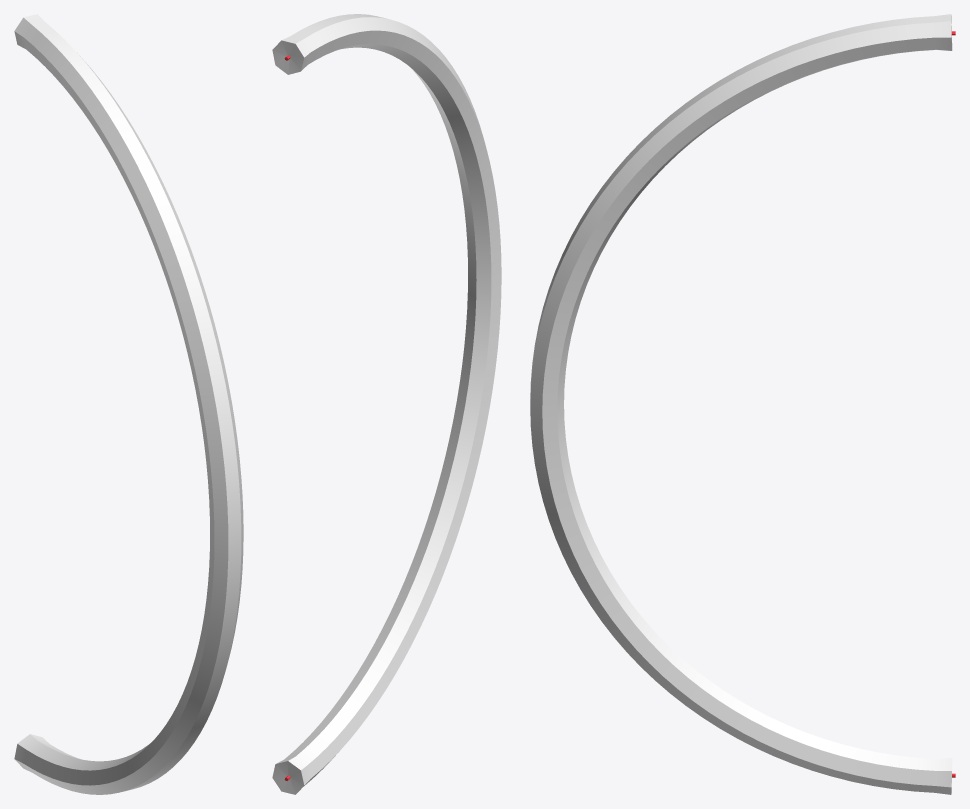
File: gizmoRotateX.fbx
The picture shows the model from 3 angles, left to right: view 1: azimuth 30°, elevation 25°; view 2: azimuth 150°, elevation 25°; view 3: azimuth 270°, elevation 25°; orthographic projection. The views are drawn at different scales.
Parts seen in each view (by area): view 1: gizmoRotateX; view 2: gizmoRotateX; view 3: gizmoRotateX.
Boxes of the visible parts, <box> form: gizmoRotateX: <box>14,14,243,794</box>; gizmoRotateX: <box>272,14,501,794</box>; gizmoRotateX: <box>530,14,955,794</box>.
Bounding box in the file's own units: 2.9 × 65.17 × 32.47.
1 material, 1 textured.
